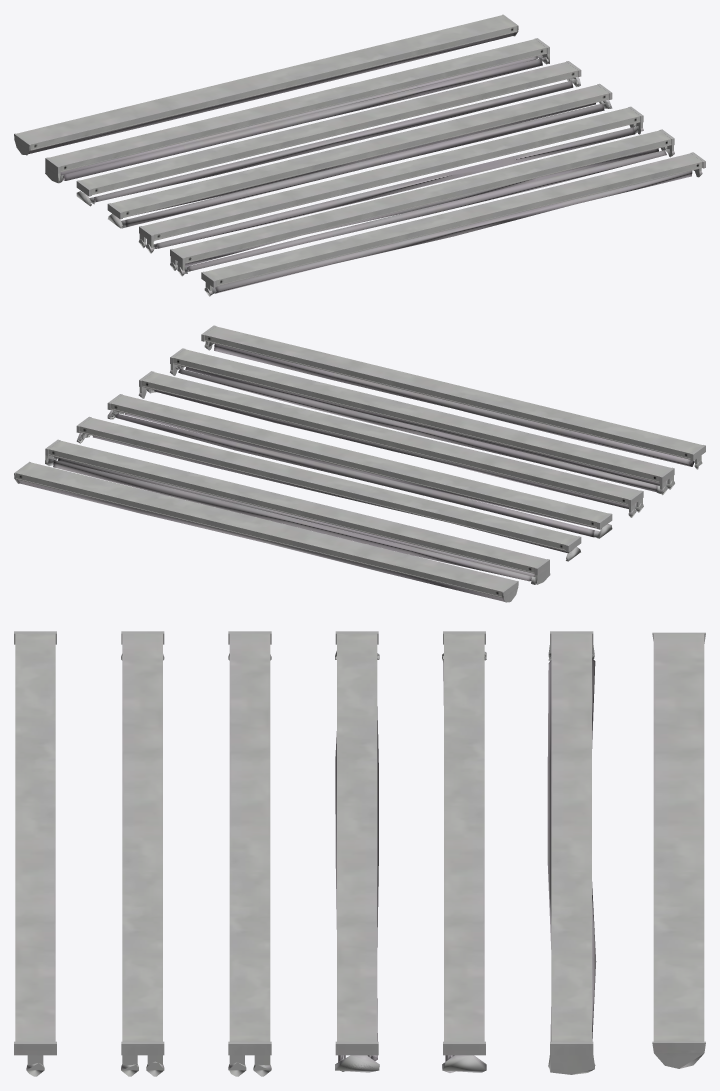
File: mounted_fluorescent_lights.glb
The picture shows the model from 3 angles, top to bottom: view 1: azimuth 30°, elevation 25°; view 2: azimuth 150°, elevation 25°; view 3: azimuth 270°, elevation 25°; orthographic projection. The views are drawn at different scales.
Parts seen in each view (by area): view 1: mounted_fluorescent_lights_a, mounted_fluorescent_lights_a_lo; view 2: mounted_fluorescent_lights_a; view 3: mounted_fluorescent_lights_a.
Boxes of the visible parts, x1,y1,x2,y2 form: mounted_fluorescent_lights_a: (14,14,705,296); mounted_fluorescent_lights_a_lo: (77,77,611,293); mounted_fluorescent_lights_a: (14,325,705,602); mounted_fluorescent_lights_a: (14,631,705,1076).
Size of the model in its own units: 0.9122 by 0.0352 by 0.6453.
Materials: 2 (2 with a texture image).
